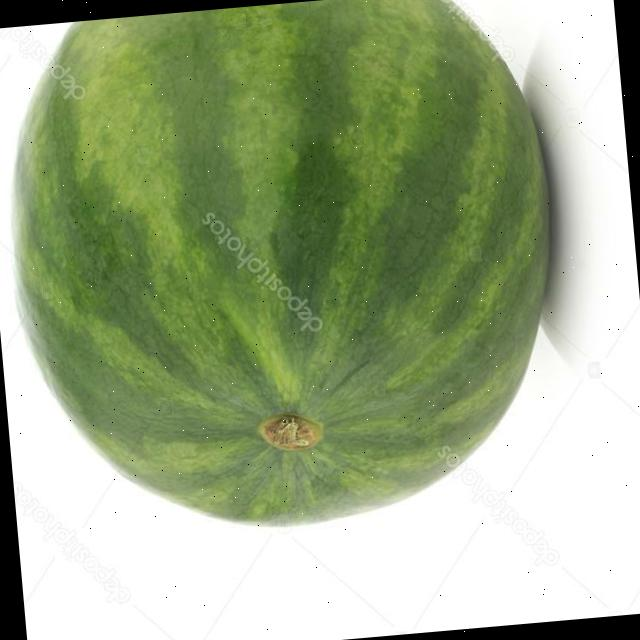watermelon: (0, 0, 586, 545)
